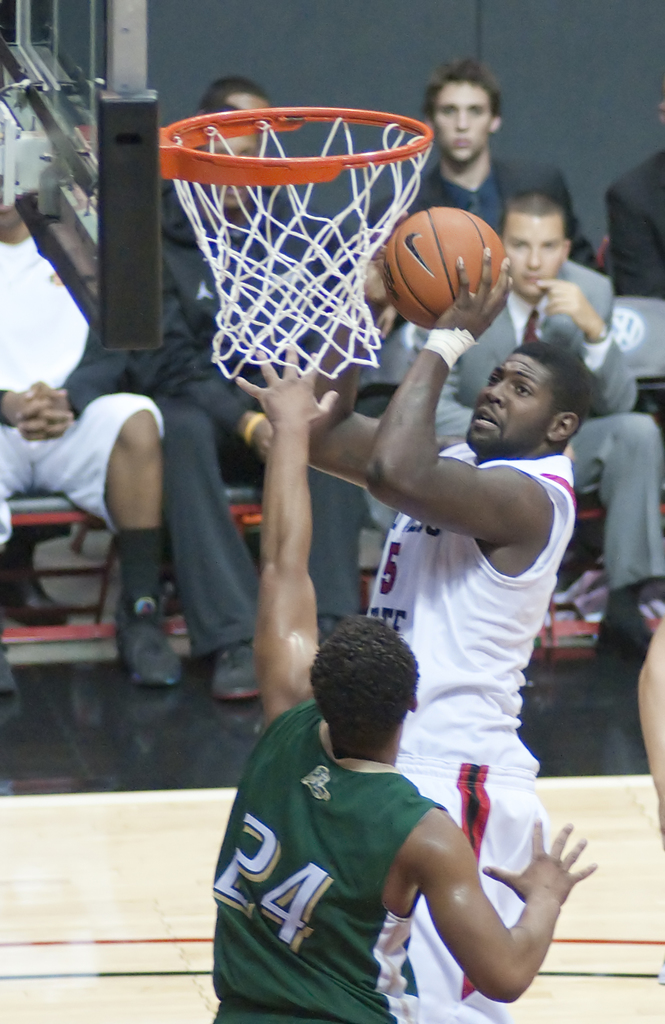Ball: (382, 202, 504, 328)
